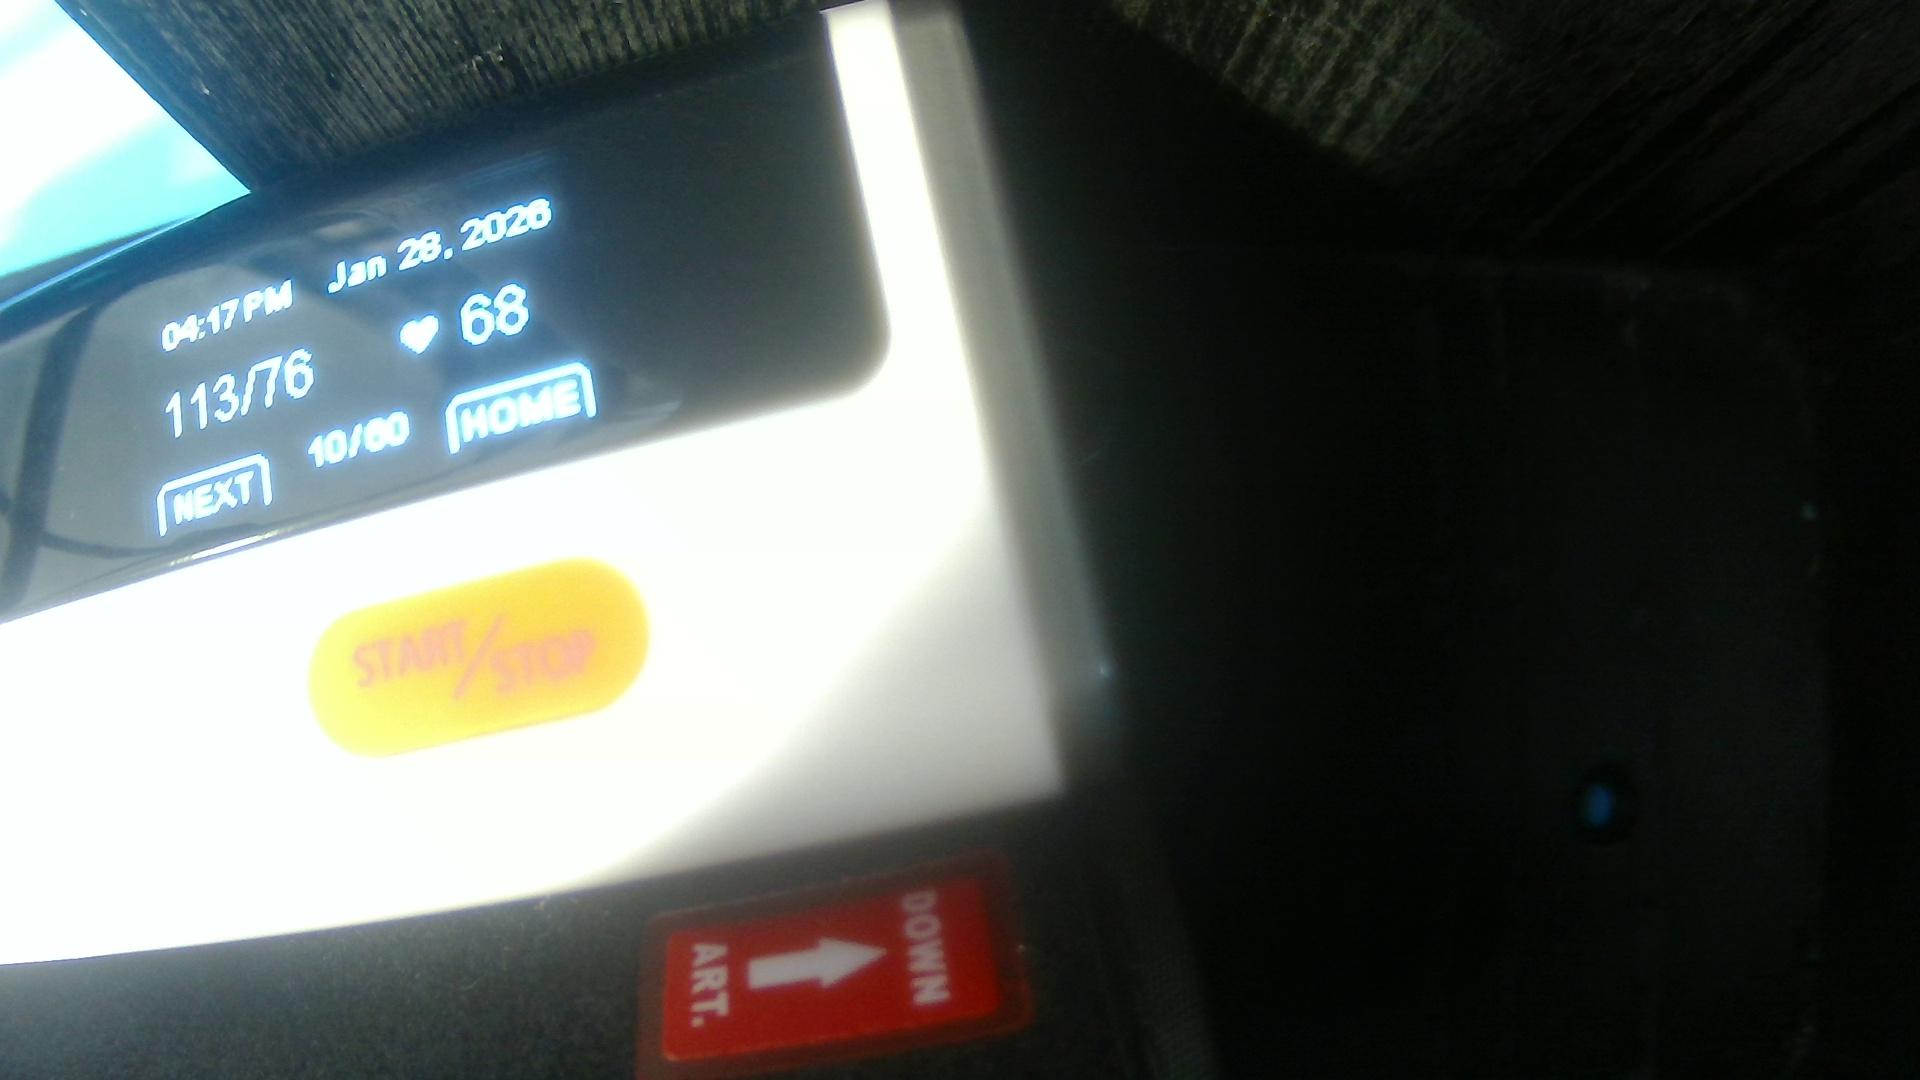DISPLAY: (13, 13, 877, 612)
